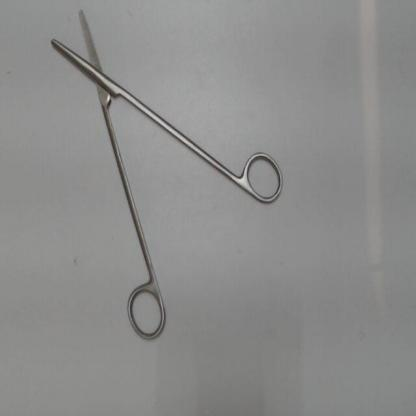9 Metzenbaum Scissors: (48, 5, 288, 348)
